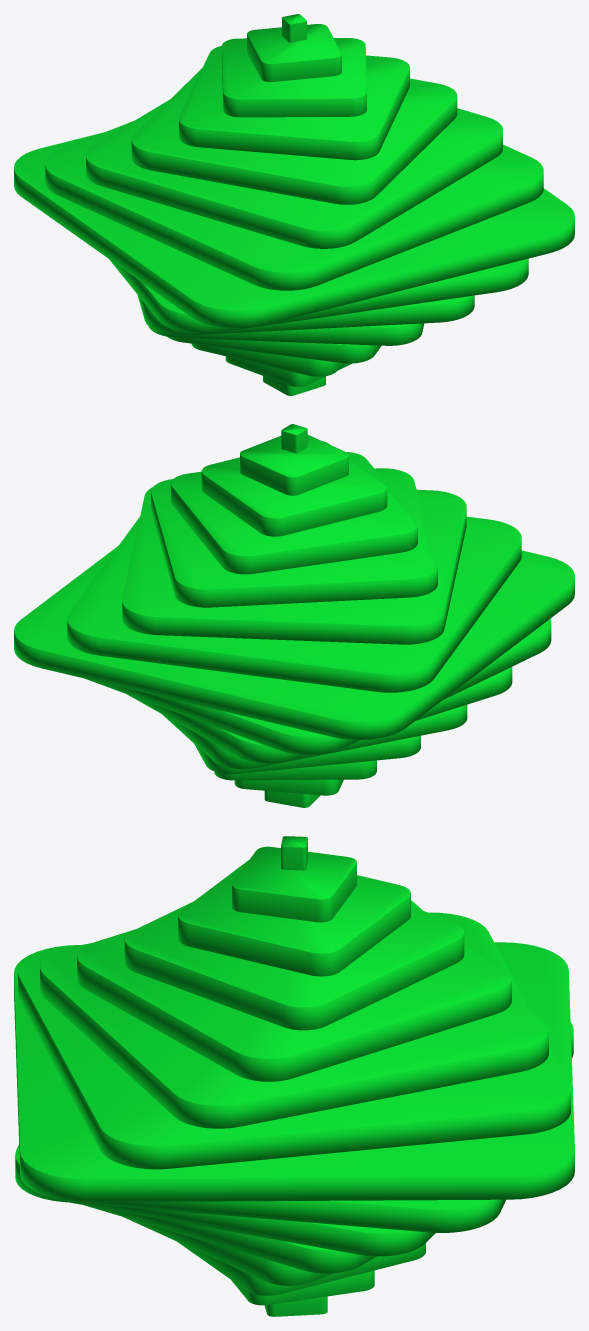
The model's file is tend-hero-baked.glb.
3 renders of one model, top to bottom at view 1: azimuth 30°, elevation 25°; view 2: azimuth 150°, elevation 25°; view 3: azimuth 270°, elevation 25°, orthographic. The views are drawn at different scales.
Parts seen in each view (by area): view 1: TendHeroBaked; view 2: TendHeroBaked; view 3: TendHeroBaked.
Boxes of the visible parts, x1,y1,x2,y2 form: TendHeroBaked: (14,14,574,395); TendHeroBaked: (14,424,574,807); TendHeroBaked: (14,836,574,1316).
Bounding box in the file's own units: 9.26 × 8.4 × 9.26.
